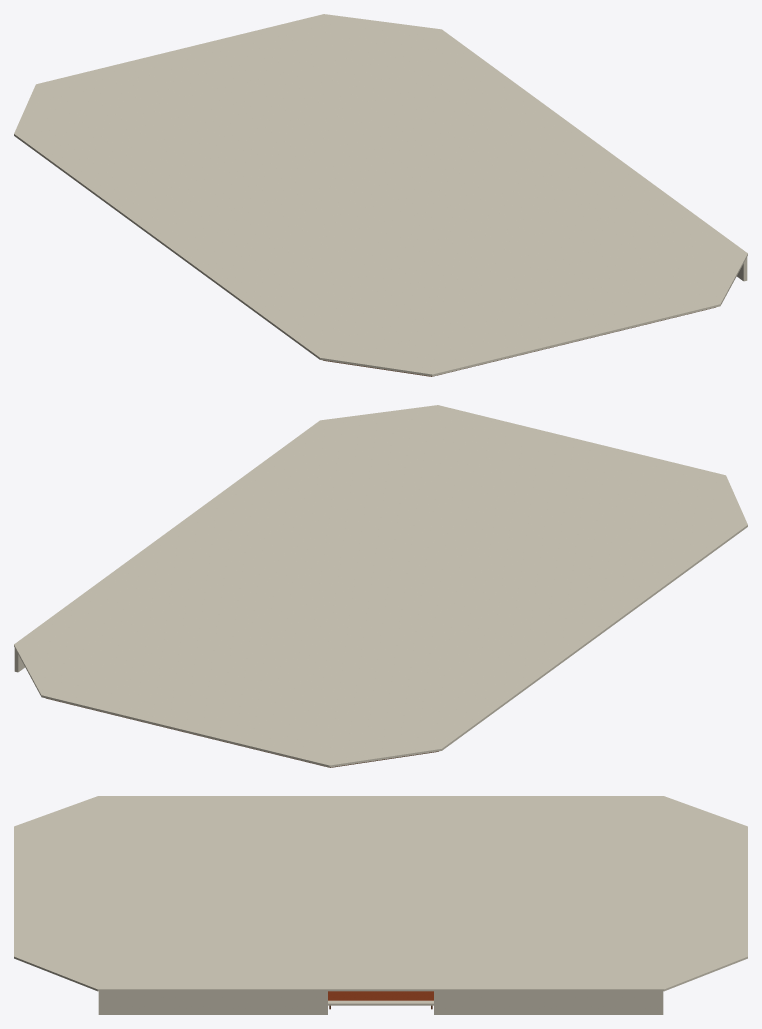
File: maker_ceiling_enclosure_r002.glb
3 views of the same model, one above another, from view 1: azimuth 30°, elevation 25°; view 2: azimuth 150°, elevation 25°; view 3: azimuth 270°, elevation 25° (orthographic). The views are drawn at different scales.
Visible parts, largest first — view 1: MakerCeilingPanel_3, MakerCeilingPanel_1, MakerCeilingPanel_5, MakerCeilingPanel_4, MakerCeilingPanel_2, MakerCeilingPanel_0; view 2: MakerCeilingPanel_3, MakerCeilingPanel_1, MakerCeilingPanel_4, MakerCeilingPanel_5, MakerCeilingPanel_0, MakerCeilingPanel_2; view 3: MakerCeilingPanel_1, MakerCeilingPanel_3, MakerCeilingPanel_4, MakerCeilingPanel_5, MakerCeilingPanel_0, MakerCeilingPanel_2, MakerForeUpperNorth, MakerForeUpperSouth, MakerForeRaisedTransom, MakerRecessCanopy.
Boxes of the visible parts, bbox=[...] form: MakerCeilingPanel_3: bbox=[14, 29, 441, 359]; MakerCeilingPanel_1: bbox=[320, 29, 747, 357]; MakerCeilingPanel_5: bbox=[321, 253, 747, 357]; MakerCeilingPanel_4: bbox=[15, 14, 440, 133]; MakerCeilingPanel_2: bbox=[320, 304, 720, 376]; MakerCeilingPanel_0: bbox=[14, 14, 322, 133]; MakerCeilingPanel_3: bbox=[14, 525, 747, 750]; MakerCeilingPanel_1: bbox=[14, 420, 747, 644]; MakerCeilingPanel_4: bbox=[14, 644, 440, 748]; MakerCeilingPanel_5: bbox=[321, 405, 746, 524]; MakerCeilingPanel_0: bbox=[41, 695, 441, 767]; MakerCeilingPanel_2: bbox=[439, 405, 747, 524]; MakerCeilingPanel_1: bbox=[97, 796, 664, 991]; MakerCeilingPanel_3: bbox=[98, 796, 664, 989]; MakerCeilingPanel_4: bbox=[664, 797, 747, 991]; MakerCeilingPanel_5: bbox=[14, 797, 97, 991]; MakerCeilingPanel_0: bbox=[664, 796, 747, 955]; MakerCeilingPanel_2: bbox=[14, 796, 97, 955]; MakerForeUpperNorth: bbox=[98, 991, 327, 1014]; MakerForeUpperSouth: bbox=[434, 991, 663, 1014]; MakerForeRaisedTransom: bbox=[328, 991, 433, 1000]; MakerRecessCanopy: bbox=[328, 1000, 433, 1005].
Size of the model in its own units: 38.86 by 2.38 by 62.36.
Materials: 3 (3 with a texture image).
